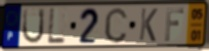2: (76, 5, 102, 46)
C: (103, 6, 129, 45)
F: (163, 7, 185, 42)
K: (138, 7, 159, 43)
L: (46, 7, 67, 46)
U: (20, 7, 46, 46)
